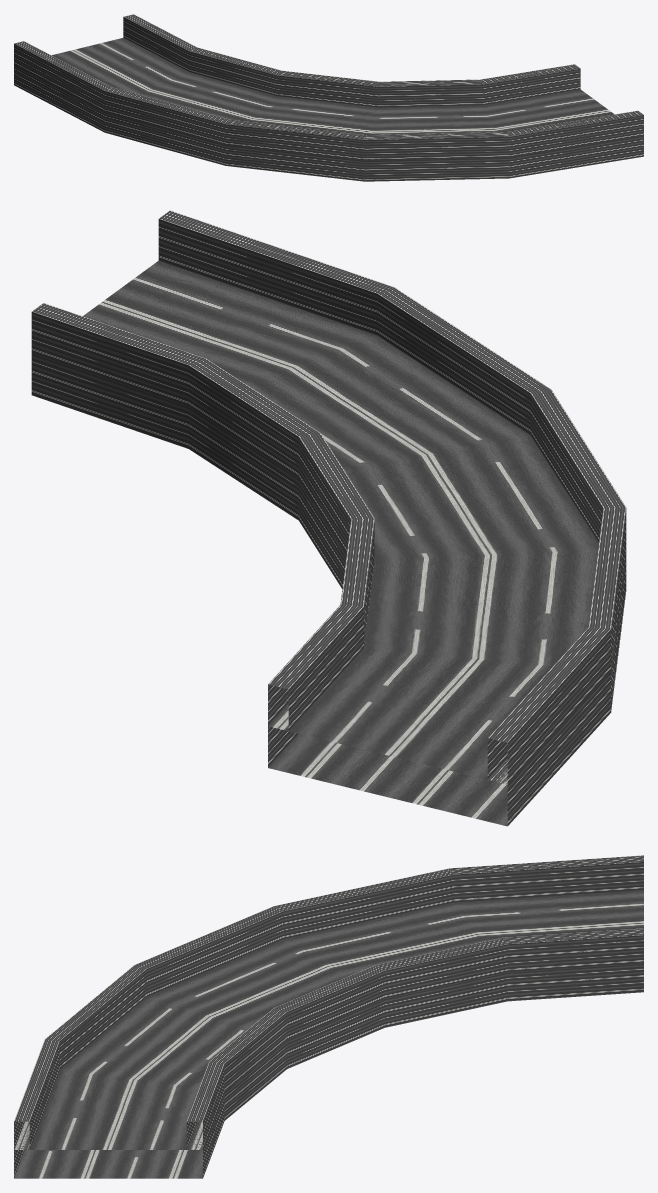
Rendered from J-Left turn.obj.
The picture shows the model from 3 angles, top to bottom: view 1: azimuth 30°, elevation 25°; view 2: azimuth 150°, elevation 25°; view 3: azimuth 270°, elevation 25°; orthographic projection. The views are drawn at different scales.
Visible parts, largest first — view 1: polySurface5; view 2: polySurface5; view 3: polySurface5.
Part boxes in pixels (<box>): polySurface5: <box>14,14,643,181</box>; polySurface5: <box>31,210,626,826</box>; polySurface5: <box>14,855,643,1178</box>.
Bounding box in the file's own units: 1575 × 157 × 1575.
1 material, 1 textured.
